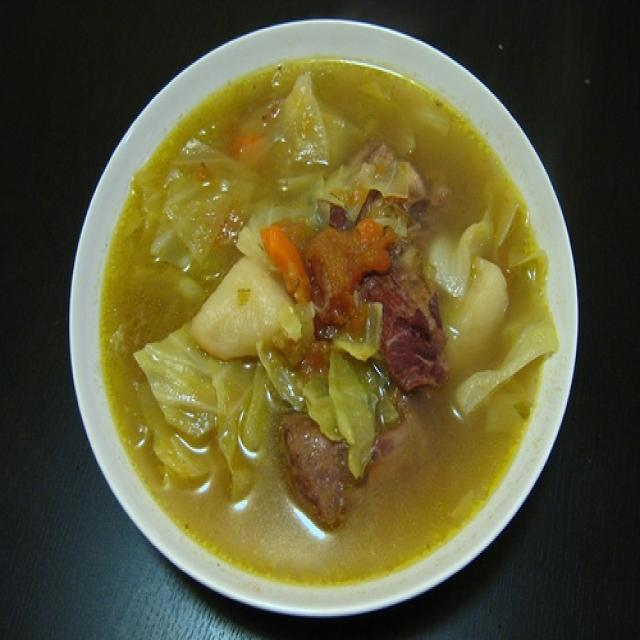汤锅炖物: (72, 31, 567, 609)
